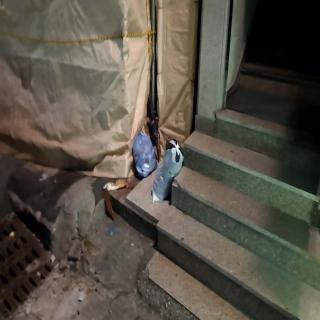Garbage: (152, 141, 185, 205), (132, 128, 158, 176)
